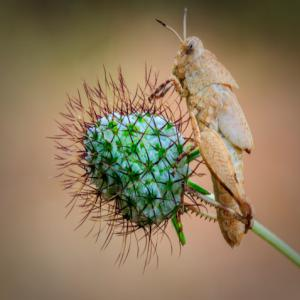locust: (148, 9, 263, 253)
